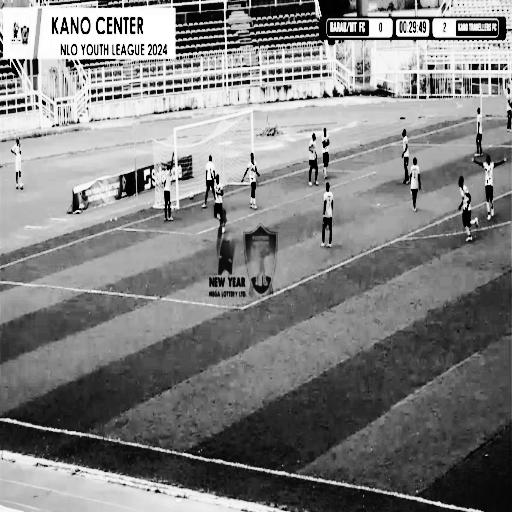ball: (189, 190, 197, 204)
keeper2: (200, 151, 218, 208)
team1: (454, 172, 482, 240), (478, 152, 500, 229), (211, 174, 233, 243), (242, 148, 263, 214), (318, 124, 334, 180)
team2: (317, 180, 342, 256), (159, 145, 178, 229), (302, 130, 320, 194), (407, 153, 423, 222), (471, 106, 486, 157), (398, 125, 410, 186), (502, 82, 512, 134)
